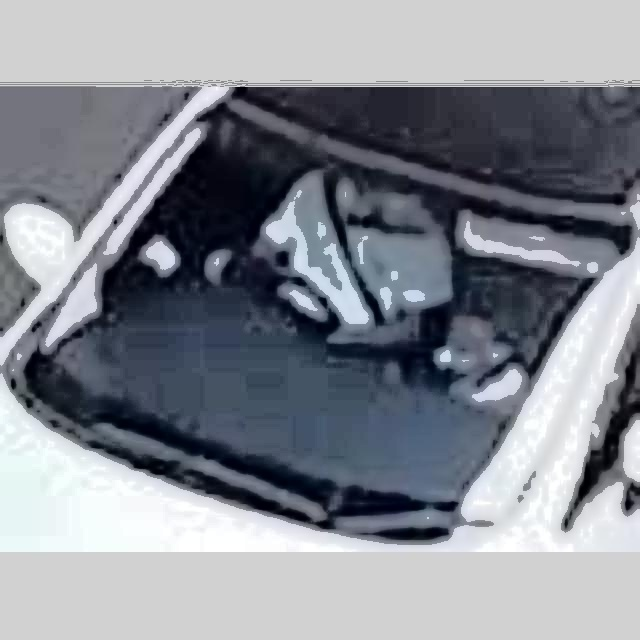pakai: (236, 159, 420, 338)
